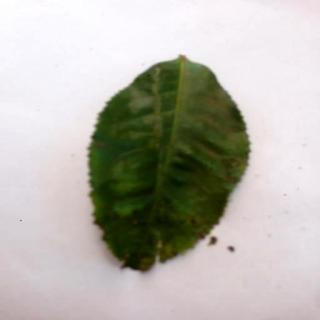Algal Leaf: (89, 57, 253, 274)
